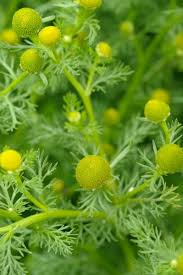pineple: (47, 142, 182, 268)
